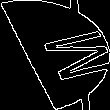M_W: (9, 25, 101, 85)
